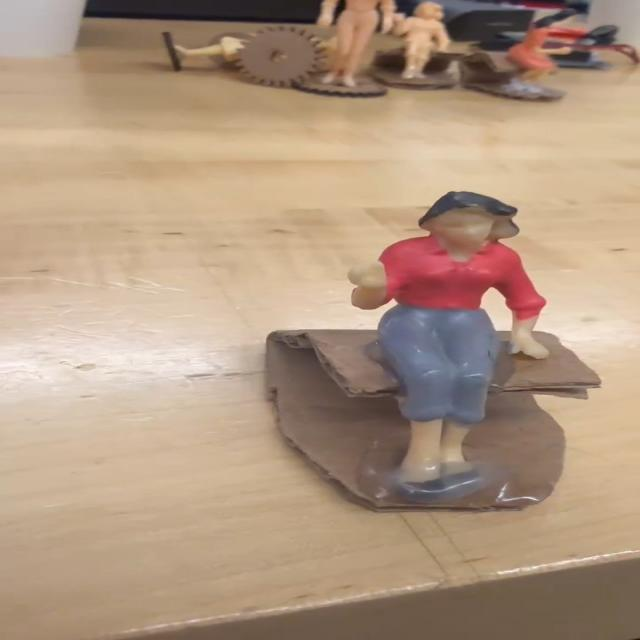Authorized: (338, 182, 563, 502)
